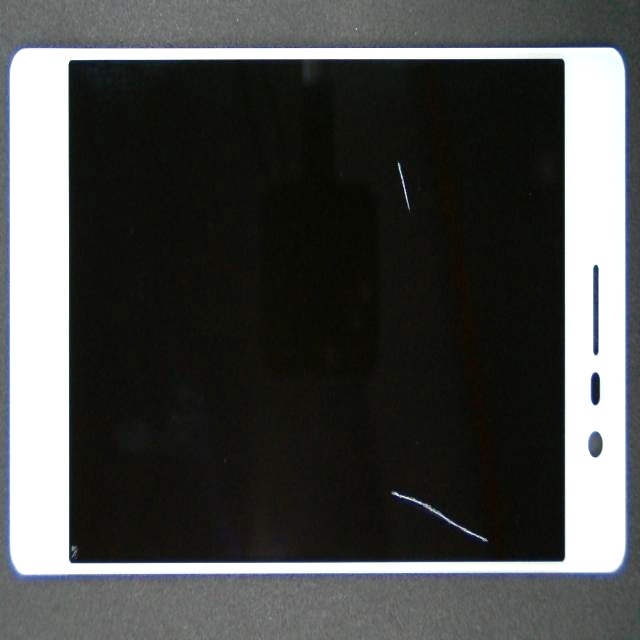scratch: (312, 320, 640, 640), (229, 101, 617, 243)
